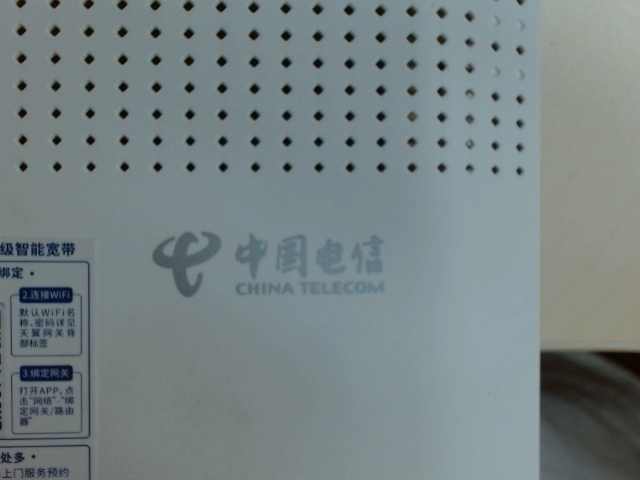AB_ChinaTelecom: (136, 212, 395, 313)
